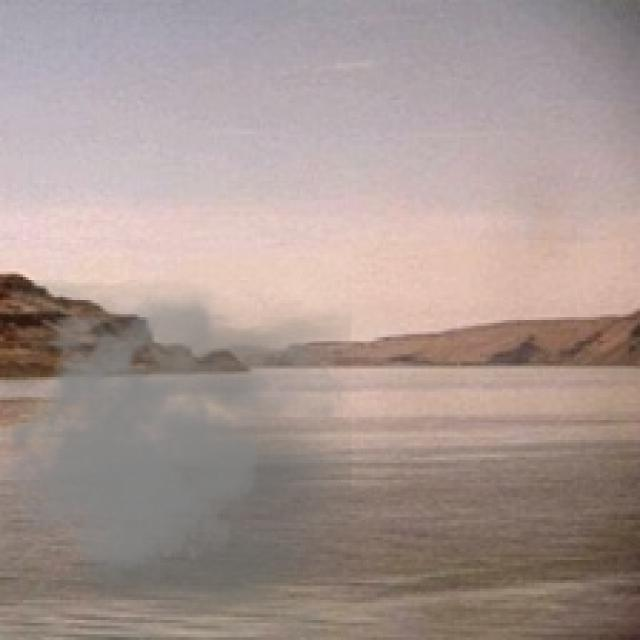smoke: (0, 280, 352, 626)
